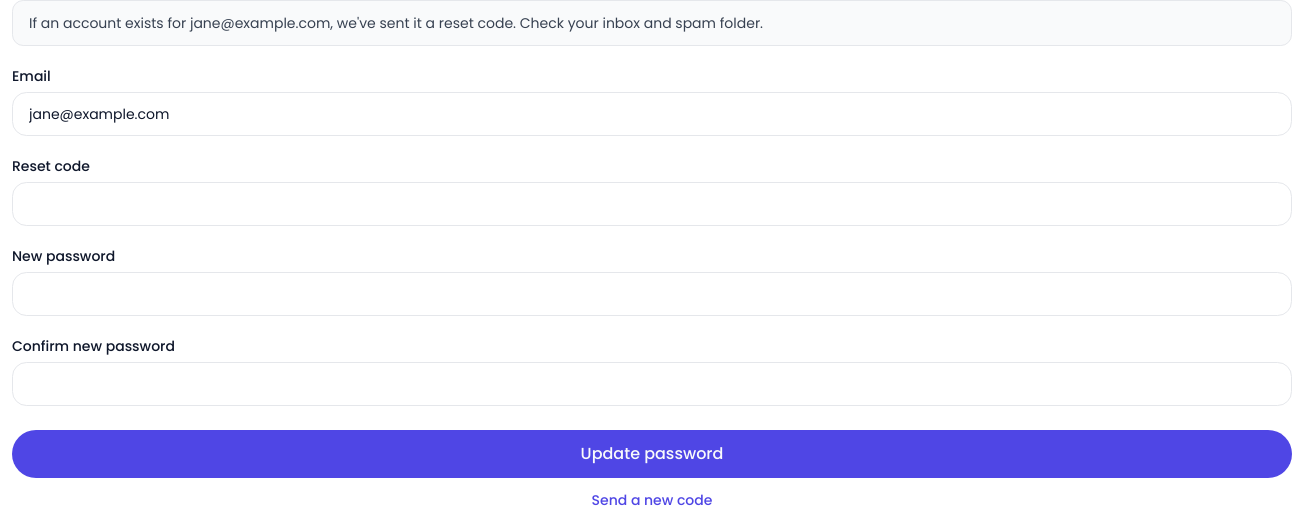
Test: ResetPasswordForm › sends a new code for the entered email
Click the button "Send a new code".
click(652, 500)  # box [12,490,1292,510]
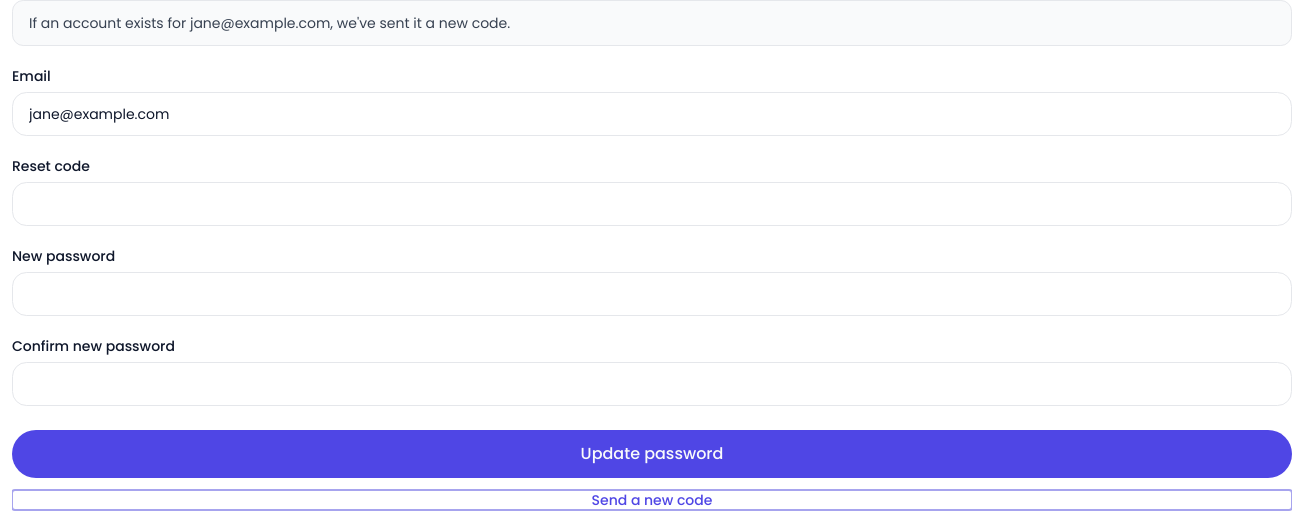
Expected: the message shows "new code", [29,13,510,33]
